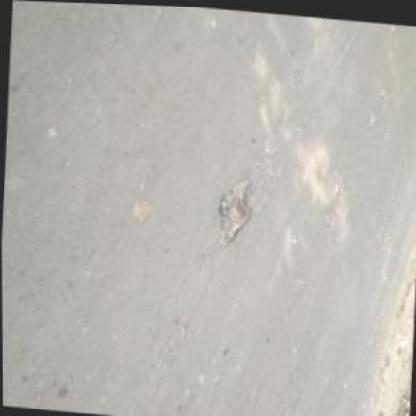pothole: (214, 170, 255, 250)
